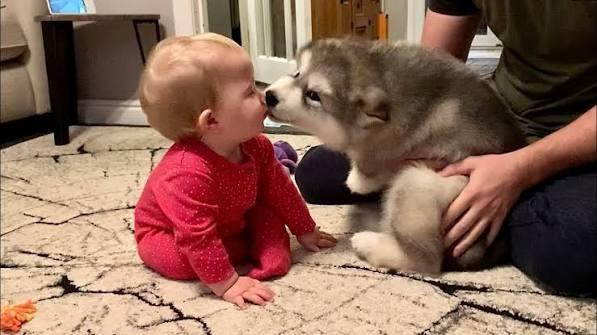non-dog: (133, 31, 337, 309), (418, 0, 597, 299)
puppy-dog: (263, 33, 532, 277)
